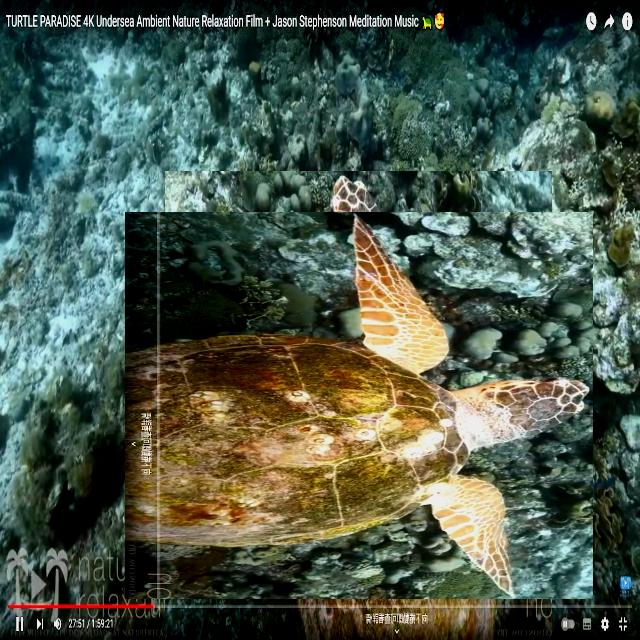Sea turtle: (145, 192, 572, 620)
